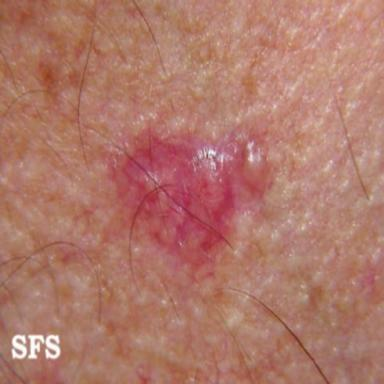basal-cell-carcinoma: (103, 122, 274, 268)
